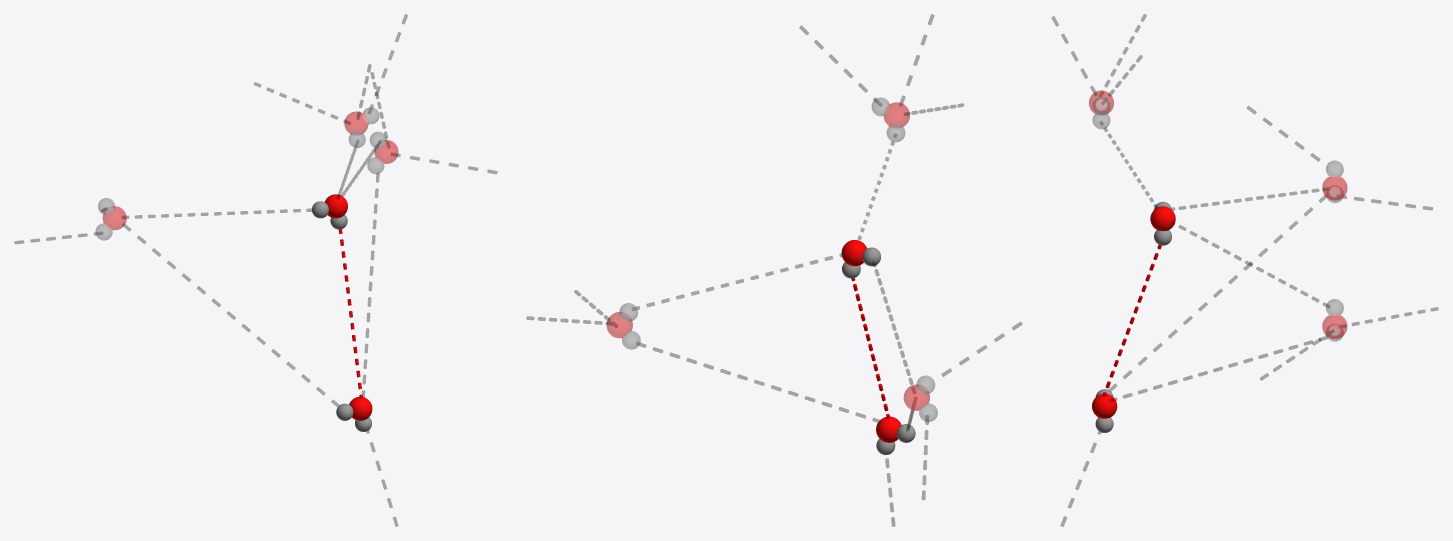
File: jingti3.FBX
3 renders of one model, left to right at view 1: azimuth 30°, elevation 25°; view 2: azimuth 150°, elevation 25°; view 3: azimuth 270°, elevation 25°, orthographic. The views are drawn at different scales.
Parts seen in each view (by area): view 1: no part large enough to name; view 2: hui; view 3: hong (×5), hui (×2).
Boxes of the visible parts, bbox=[...] form: hui: bbox=[636, 342, 880, 422]; hong (×5): bbox=[1089, 90, 1347, 418]; hui (×2): bbox=[1108, 194, 1327, 401].
Bounding box in the file's own units: 134 × 151 × 107.
